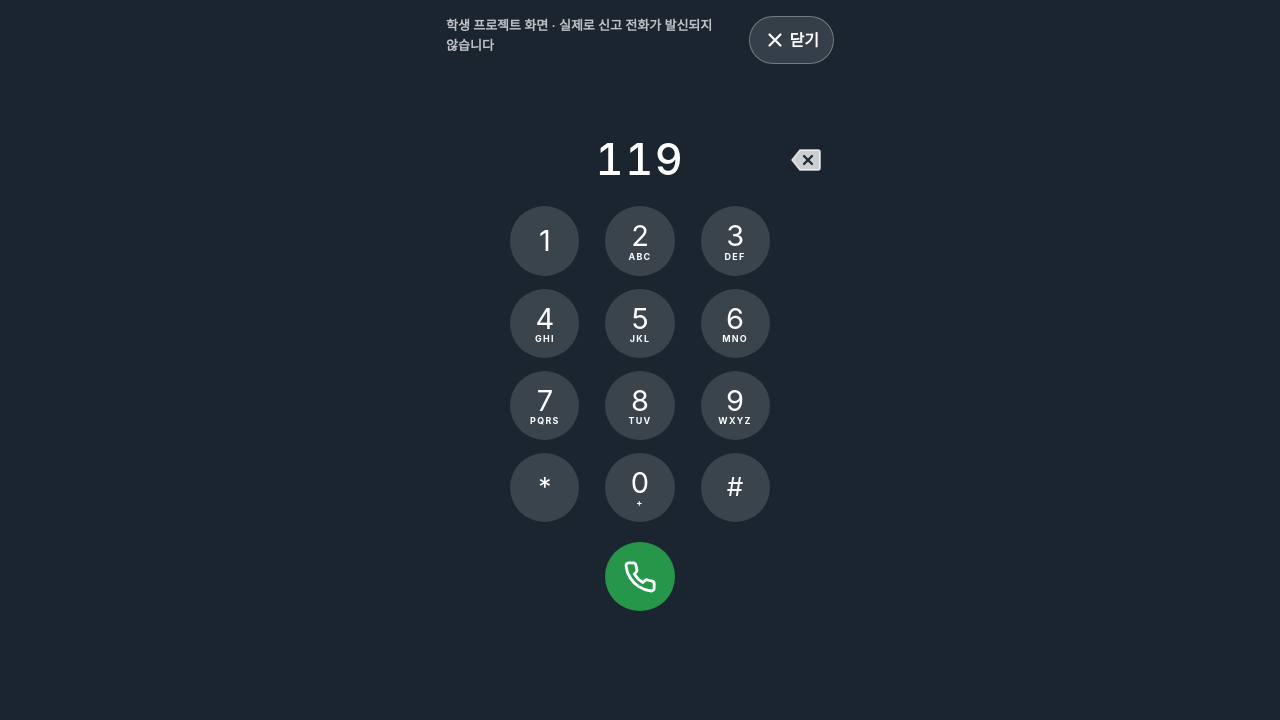
Test: Emergency119Dialpad (Chrome) › 통화 버튼은 안내만 띄우고 이동·새 창·링크가 없다
Click the button named "실제로 걸리지 않음" at (640, 577), box [605,542,674,611]
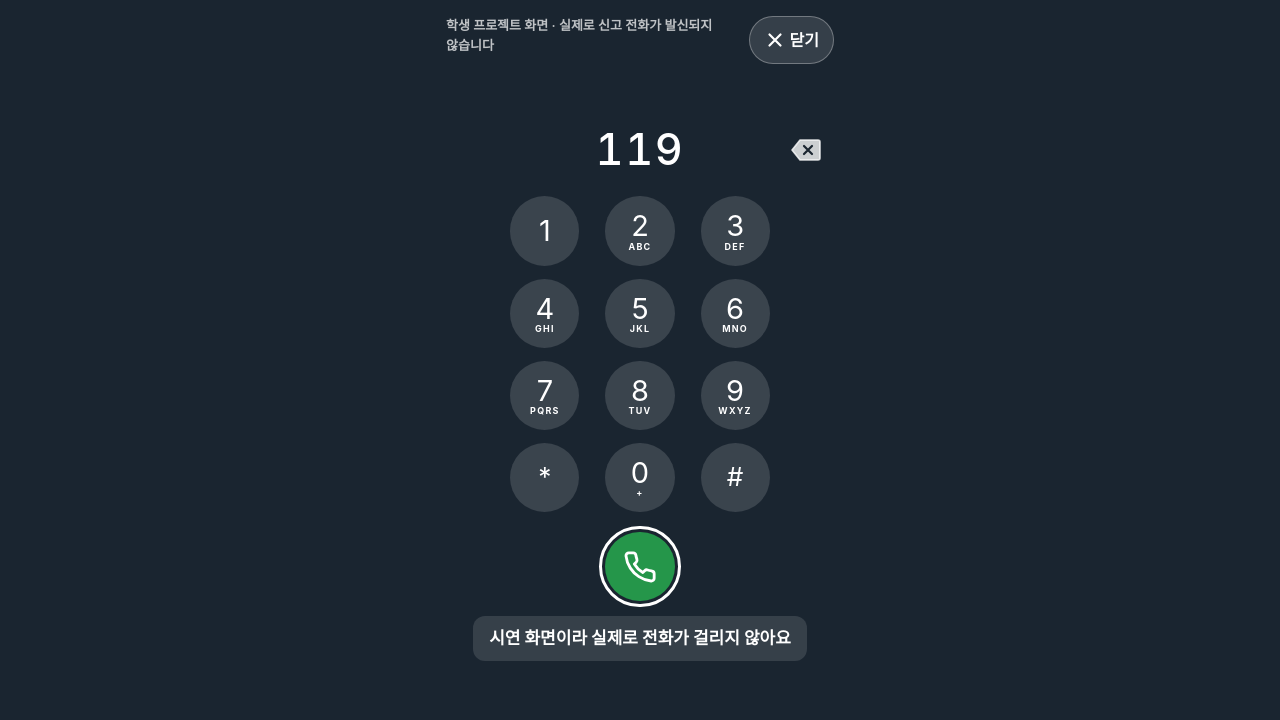
Check: the text named "입력된 번호" reads "119", box [595,123,684,175]
Check: the text "시연 화면이라 실제로 전화가 걸리지 않아요" is shown, box [473,616,807,661]
